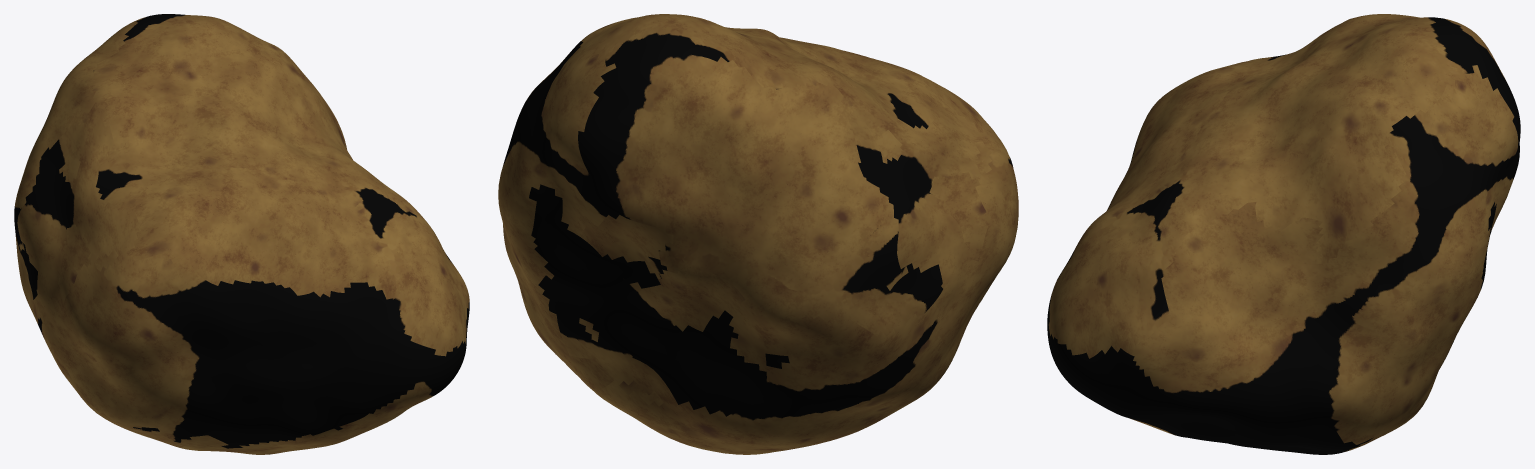
The picture shows the model from 3 angles, left to right: view 1: azimuth 30°, elevation 25°; view 2: azimuth 150°, elevation 25°; view 3: azimuth 270°, elevation 25°; orthographic projection. The views are drawn at different scales.
Parts seen in each view (by area): view 1: original_ico.007; view 2: original_ico.007; view 3: original_ico.007.
Boxes of the visible parts, <box> form: original_ico.007: <box>14,14,469,454</box>; original_ico.007: <box>498,14,1018,454</box>; original_ico.007: <box>1047,14,1520,454</box>.
Size of the model in its own units: 2.62 by 2.69 by 2.81.
